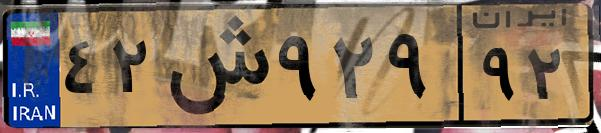2: (330, 28, 385, 110), (525, 38, 570, 115), (110, 28, 158, 98)
4: (57, 26, 110, 100)
9: (270, 28, 330, 110), (385, 28, 445, 110), (475, 38, 525, 113)
ش: (158, 12, 270, 120)
